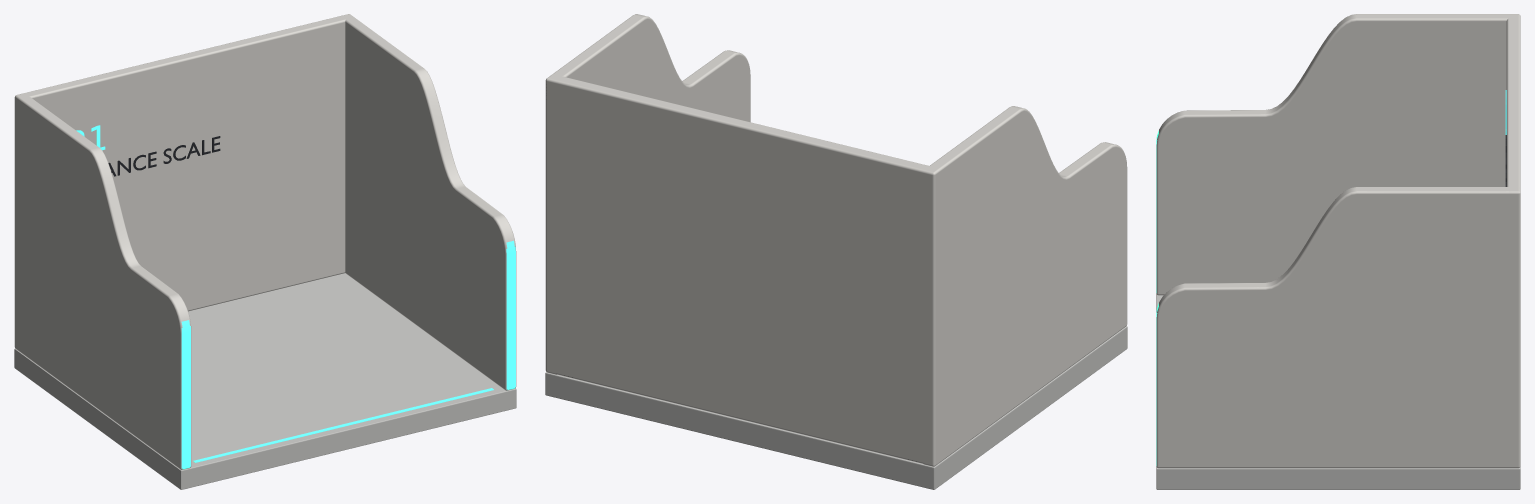
The model's file is Room_21_balance-scale.glb.
3 views of the same model, side by side, from view 1: azimuth 30°, elevation 25°; view 2: azimuth 150°, elevation 25°; view 3: azimuth 270°, elevation 25° (orthographic). The views are drawn at different scales.
Parts seen in each view (by area): view 1: Walls, Floor, Accent, Label; view 2: Walls, Floor; view 3: Walls, Floor.
Boxes of the visible parts, <box> form: Walls: <box>14,14,516,469</box>; Floor: <box>14,273,516,489</box>; Accent: <box>193,388,493,462</box>; Label: <box>76,125,220,176</box>; Walls: <box>545,14,1127,466</box>; Floor: <box>545,326,1127,489</box>; Walls: <box>1156,14,1520,468</box>; Floor: <box>1156,294,1520,489</box>.
Size of the model in its own units: 3.6 by 2.8 by 3.1.
